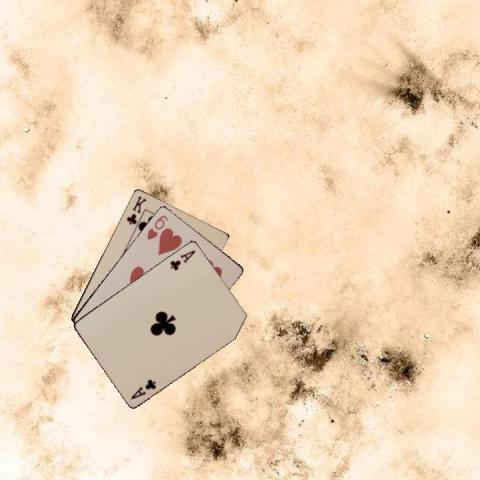6h: (144, 212, 169, 241)
Ac: (128, 376, 157, 401), (166, 247, 196, 271)
Kc: (123, 193, 148, 226)
